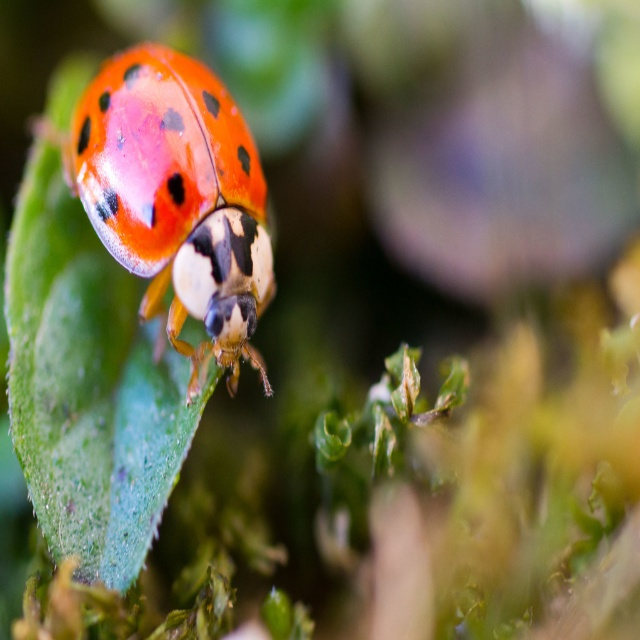Ladybug: (36, 44, 276, 402)
